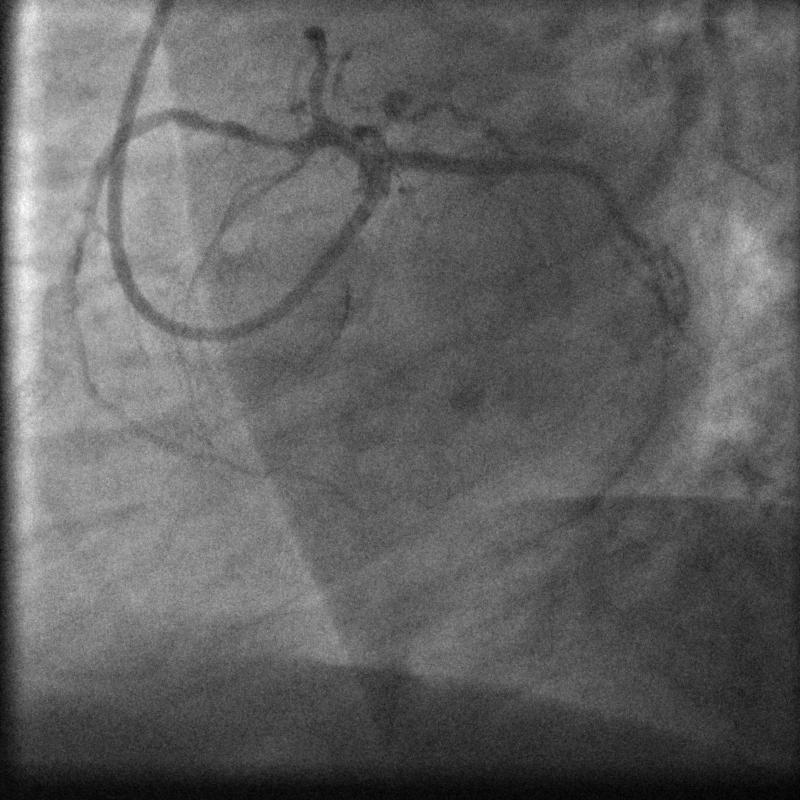Stenosis: (221, 115, 293, 155)
